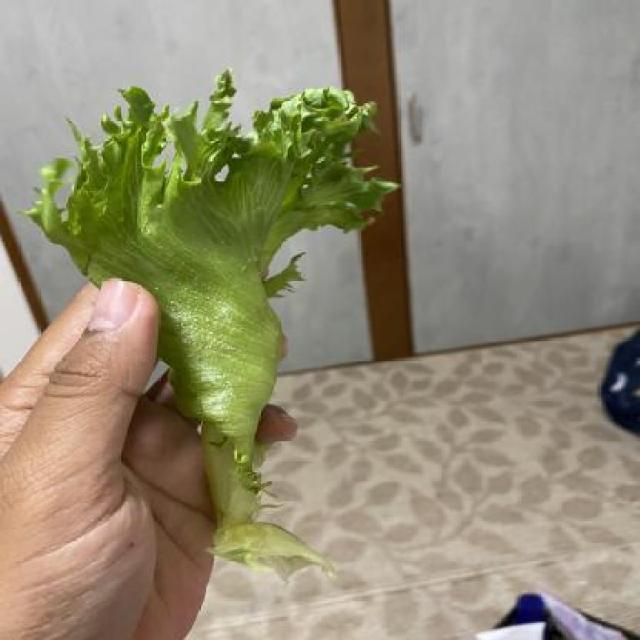Lettuce: (26, 70, 393, 573)
